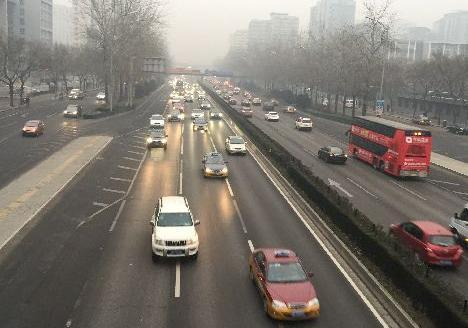bus: (345, 115, 433, 180), (173, 80, 184, 93)
car: (247, 247, 320, 323), (388, 221, 464, 269), (150, 196, 200, 262), (449, 203, 468, 245), (201, 151, 229, 179), (317, 145, 347, 165), (224, 135, 248, 156), (146, 131, 169, 151), (21, 120, 45, 137), (294, 116, 314, 131), (63, 104, 82, 119), (192, 117, 209, 133), (149, 115, 166, 128), (411, 114, 431, 125), (448, 123, 464, 135), (167, 109, 181, 122), (191, 108, 204, 122), (239, 107, 254, 119), (208, 108, 223, 120), (264, 111, 280, 122), (67, 89, 83, 100), (263, 101, 275, 112), (173, 103, 185, 114), (342, 99, 355, 109), (283, 105, 297, 113), (200, 100, 211, 110), (252, 97, 263, 106), (96, 92, 107, 101), (183, 95, 195, 103), (241, 98, 251, 107), (321, 99, 332, 107), (198, 94, 207, 103), (271, 98, 280, 106), (223, 93, 231, 100), (233, 87, 241, 94), (228, 98, 237, 104), (215, 89, 222, 95)
